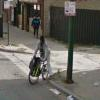Bicycle: (25, 49, 54, 90)
